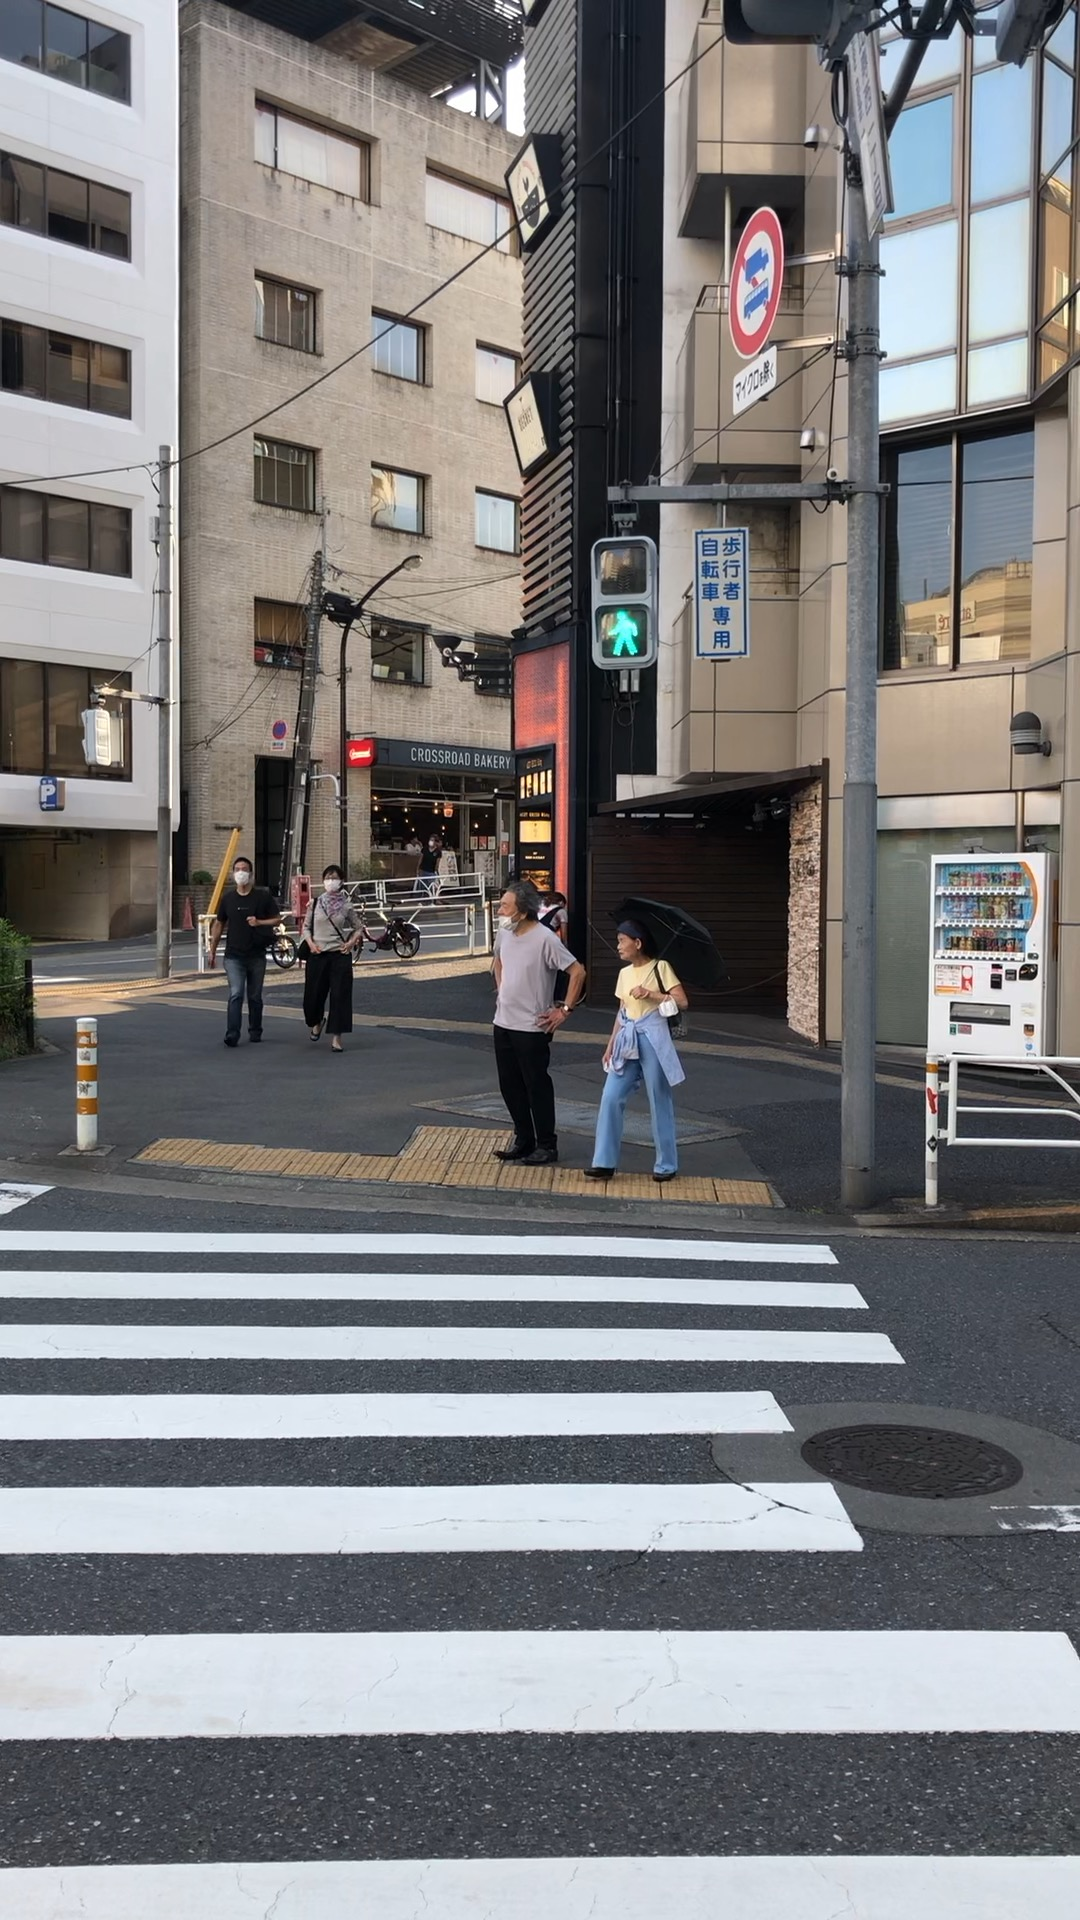green: (585, 537, 658, 667)
